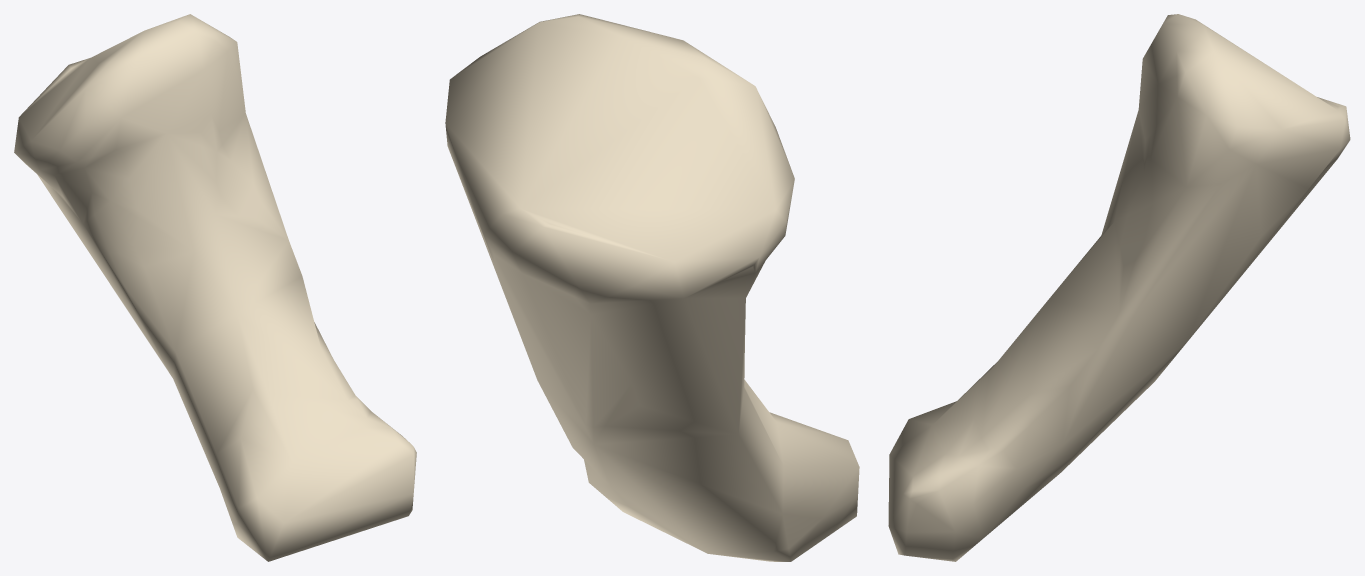
The model's file is middle-phalanx-of-fifth-finger-of-hand-r.glb.
3 views of the same model, side by side, from view 1: azimuth 30°, elevation 25°; view 2: azimuth 150°, elevation 25°; view 3: azimuth 270°, elevation 25° (orthographic). The views are drawn at different scales.
Visible parts, largest first — view 1: Middle phalanx of fifth finger of hand.r; view 2: Middle phalanx of fifth finger of hand.r; view 3: Middle phalanx of fifth finger of hand.r.
Part boxes in pixels (left/top/right/bottom): Middle phalanx of fifth finger of hand.r: left=14, top=14, right=416, bottom=561; Middle phalanx of fifth finger of hand.r: left=445, top=14, right=859, bottom=561; Middle phalanx of fifth finger of hand.r: left=888, top=14, right=1350, bottom=561.
Size of the model in its own units: 0.0121 by 0.0205 by 0.0173.
